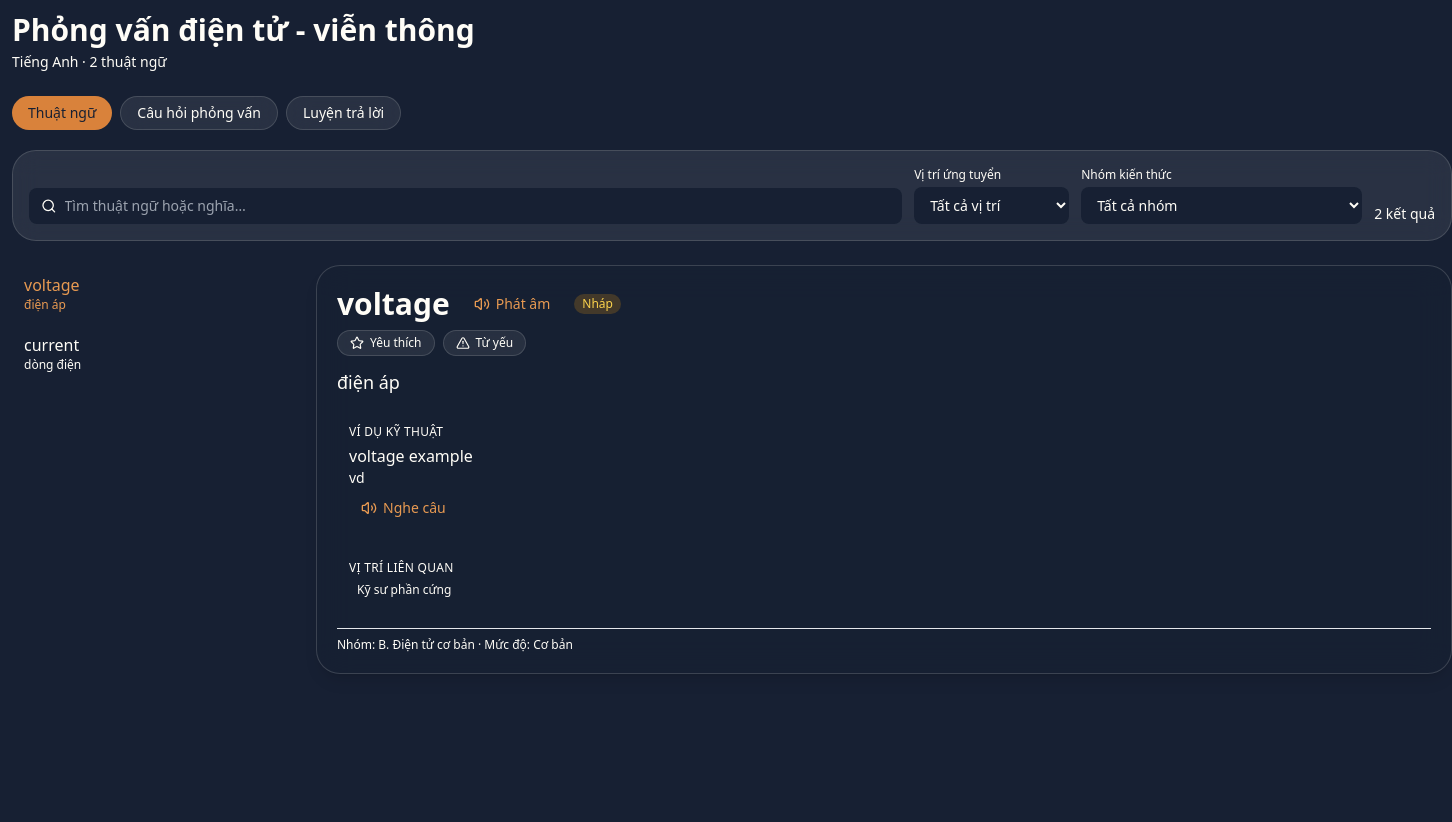
Test: InterviewPage — 3 tab (P1.8) › tab Thuật ngữ hiển thị danh sách và tìm kiếm lọc được
The width and height of the screenshot is (1452, 822).
expect the tab "Thuật ngữ" is shown: met, box [12, 96, 112, 130]
Type "volt" into the field named "Tìm kiếm thuật ngữ" at (477, 206), box [65, 196, 890, 216]
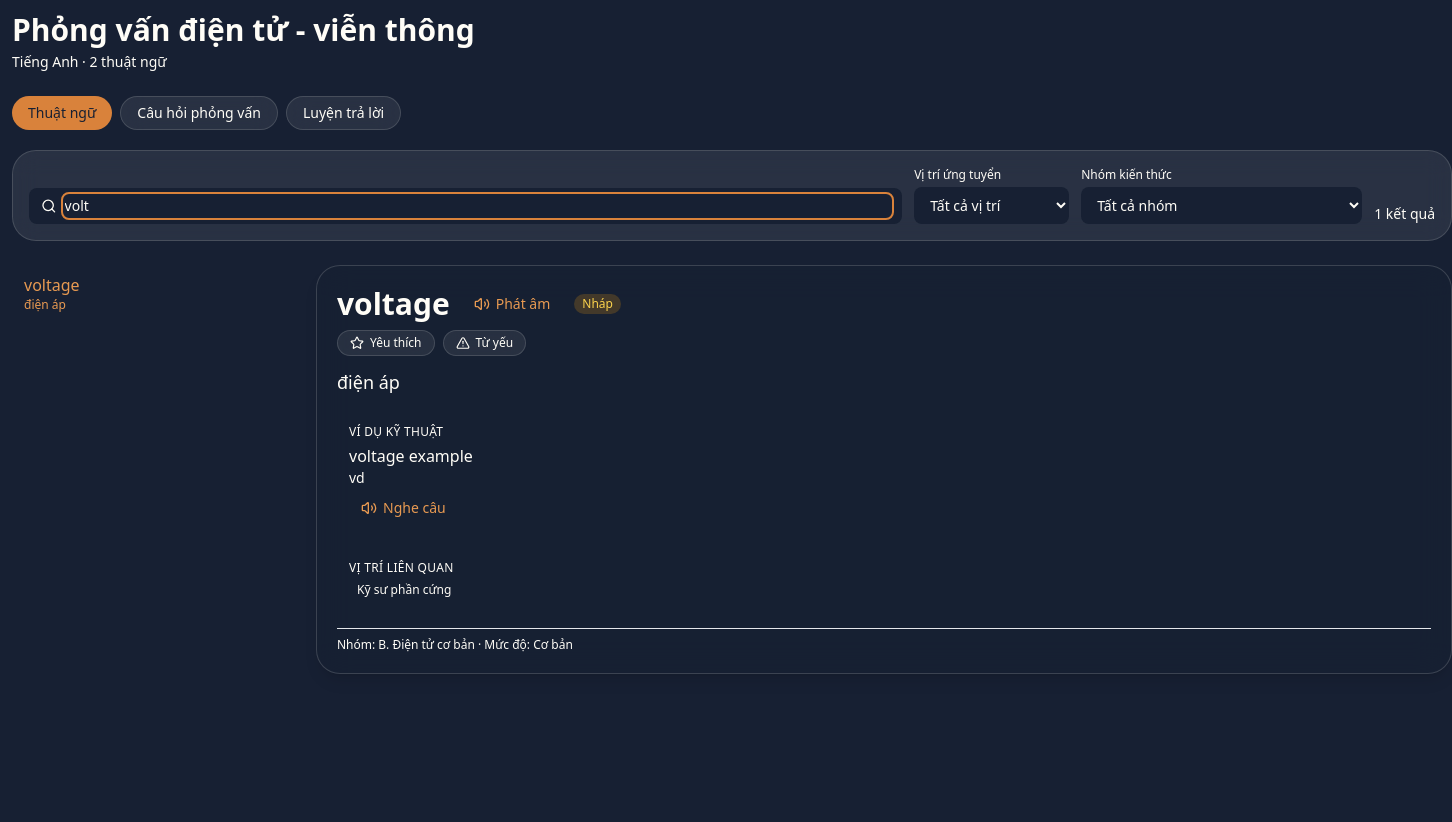
expect the button "current" is gone: met
